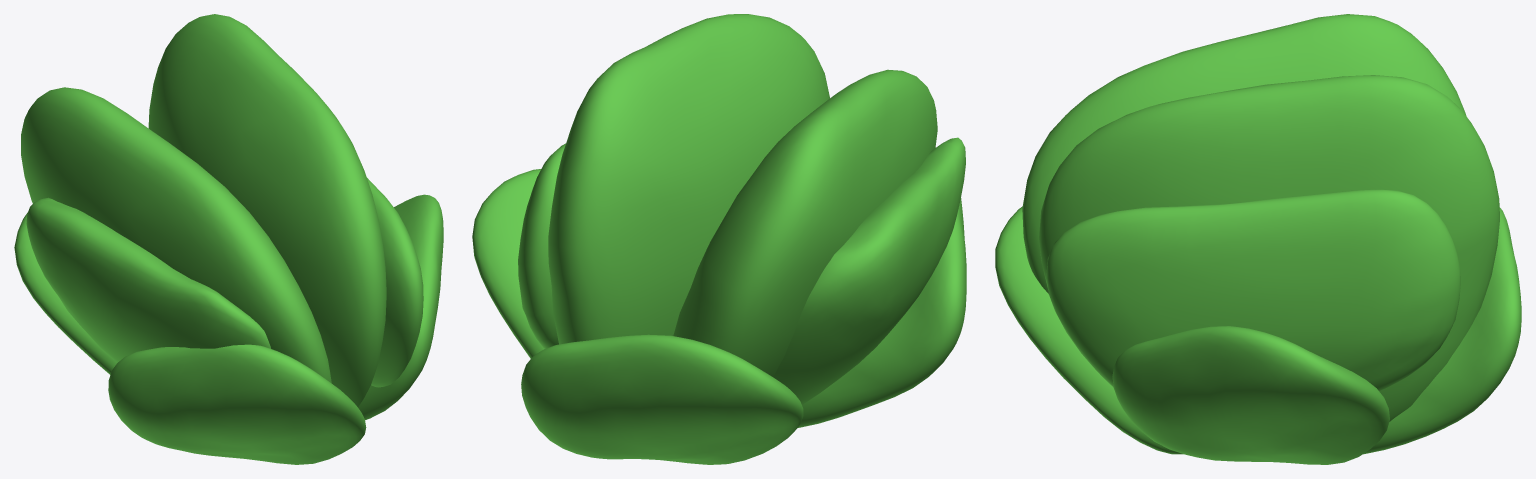
The model's file is Lettuce.fbx.
The picture shows the model from 3 angles, left to right: view 1: azimuth 30°, elevation 25°; view 2: azimuth 150°, elevation 25°; view 3: azimuth 270°, elevation 25°; orthographic projection. The views are drawn at different scales.
Parts seen in each view (by area): view 1: Icosphere.003; view 2: Icosphere.003; view 3: Icosphere.003.
Boxes of the visible parts, <box> form: Icosphere.003: <box>14,14,443,464</box>; Icosphere.003: <box>472,14,966,464</box>; Icosphere.003: <box>995,14,1521,464</box>.
Bounding box in the file's own units: 225 × 210 × 256.
